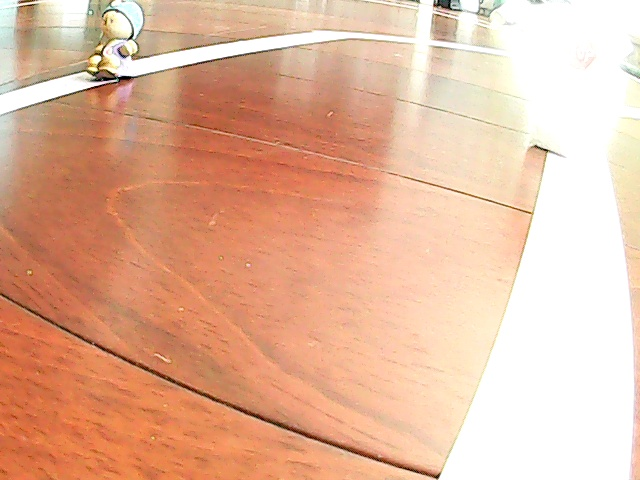pedestrain: (86, 1, 140, 85)
